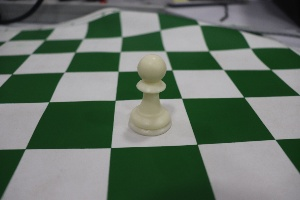white_pawn: (124, 42, 177, 144)
